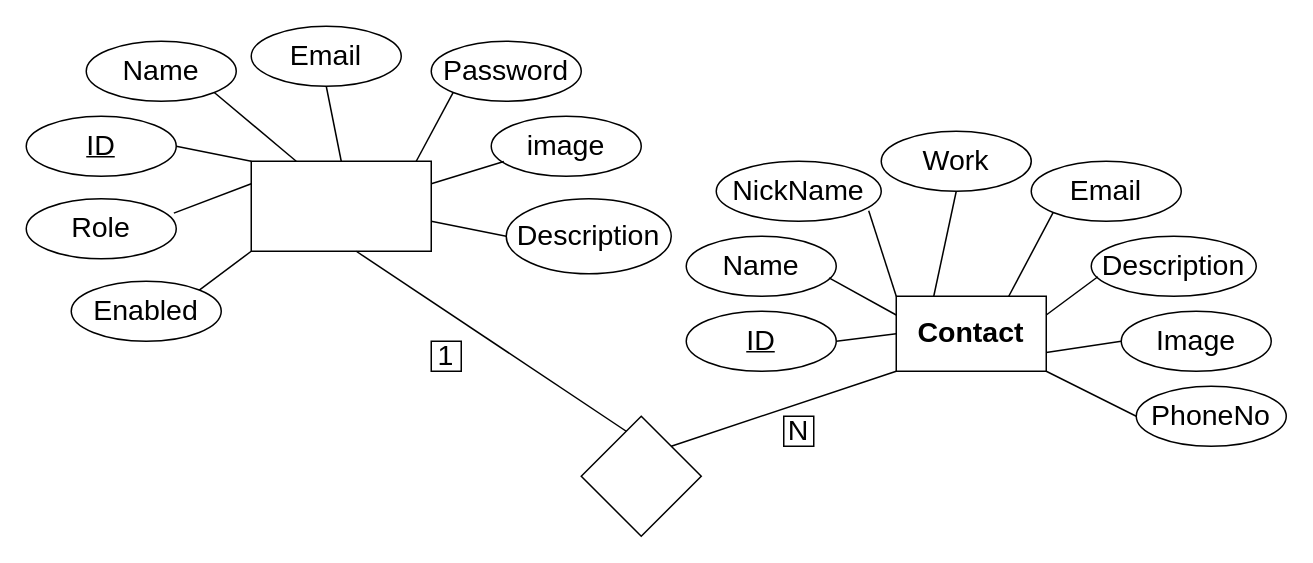
Image size: 1313x563. Some labels were removed from this diagram. The centre of each missing label's shape, as x and y in pixels:
Admin: point 640,475
user: point 340,205
